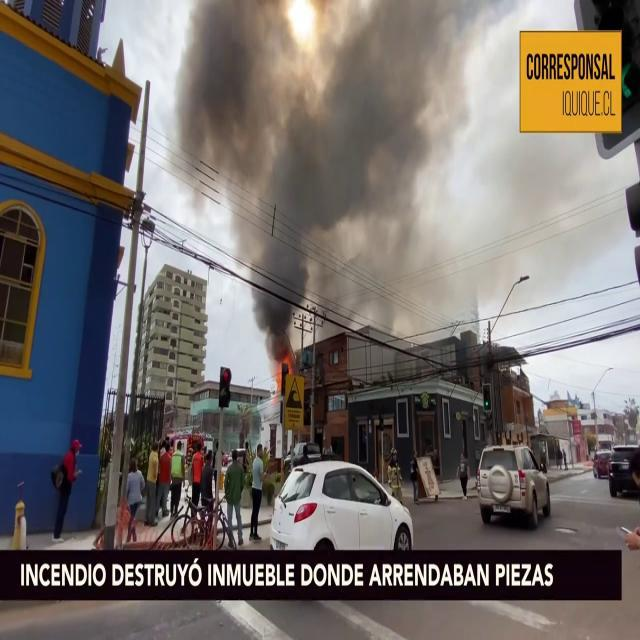Smoke: (168, 0, 468, 341)
